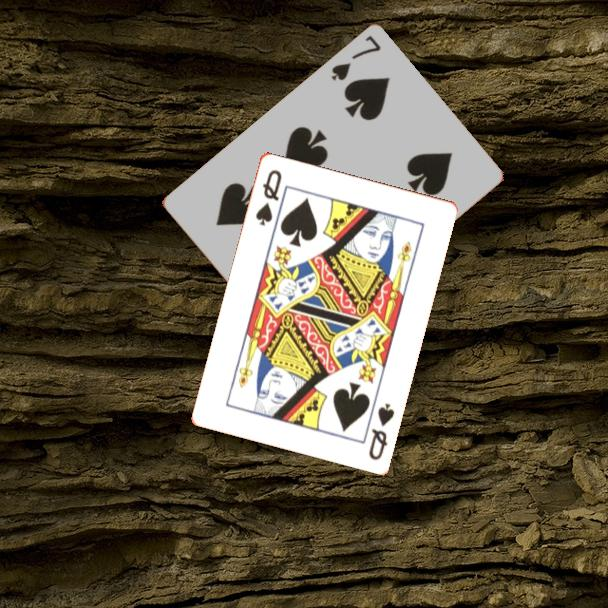s07: (327, 32, 384, 84)
s12: (365, 399, 397, 463), (252, 166, 284, 228)
